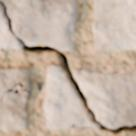brick: (93, 0, 135, 50), (0, 93, 29, 130), (0, 68, 31, 98)
broken_brick: (3, 0, 77, 52), (74, 69, 135, 127), (44, 65, 95, 130), (0, 5, 21, 50)
crack: (0, 0, 135, 135), (0, 79, 31, 102)
